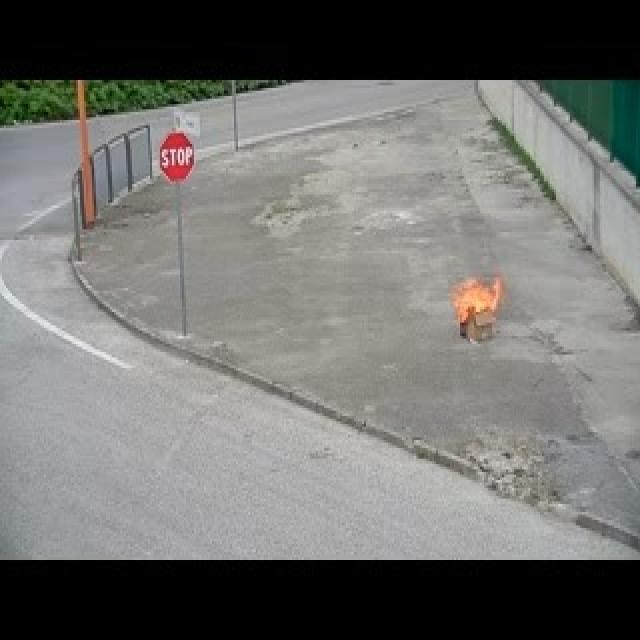fire: (447, 272, 504, 324)
